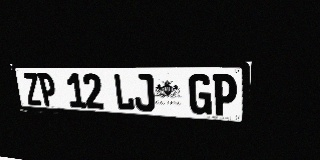1: (65, 73, 86, 108)
2: (82, 73, 104, 109)
G: (189, 74, 212, 115)
J: (133, 74, 155, 112)
L: (113, 74, 135, 111)
P: (212, 74, 237, 116), (37, 73, 58, 107)
Z: (22, 73, 43, 106)
